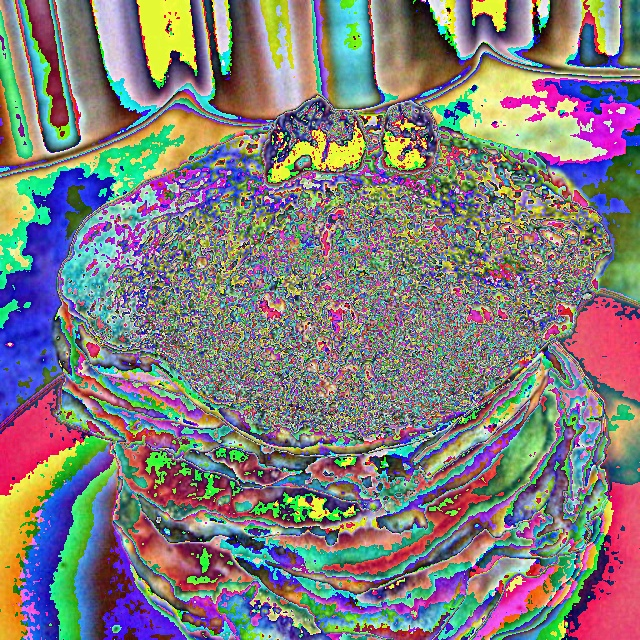background: (53, 94, 613, 639)
